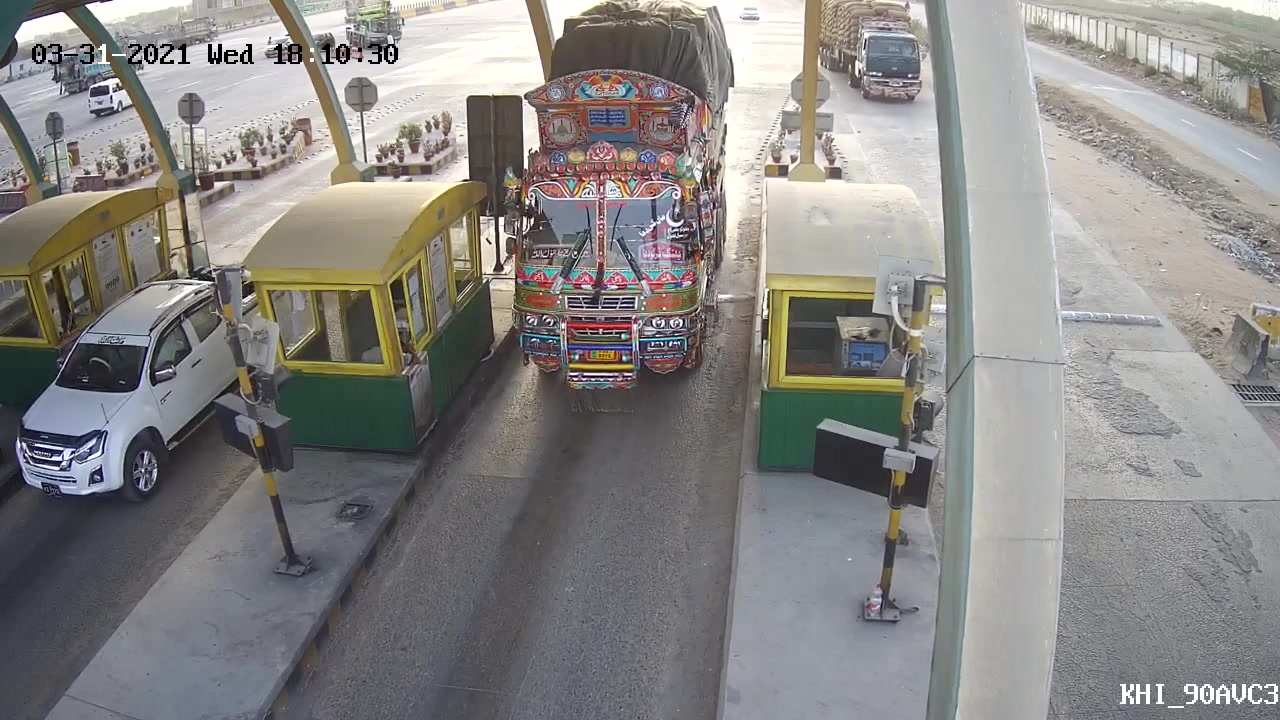F5: (497, 1, 744, 401)
